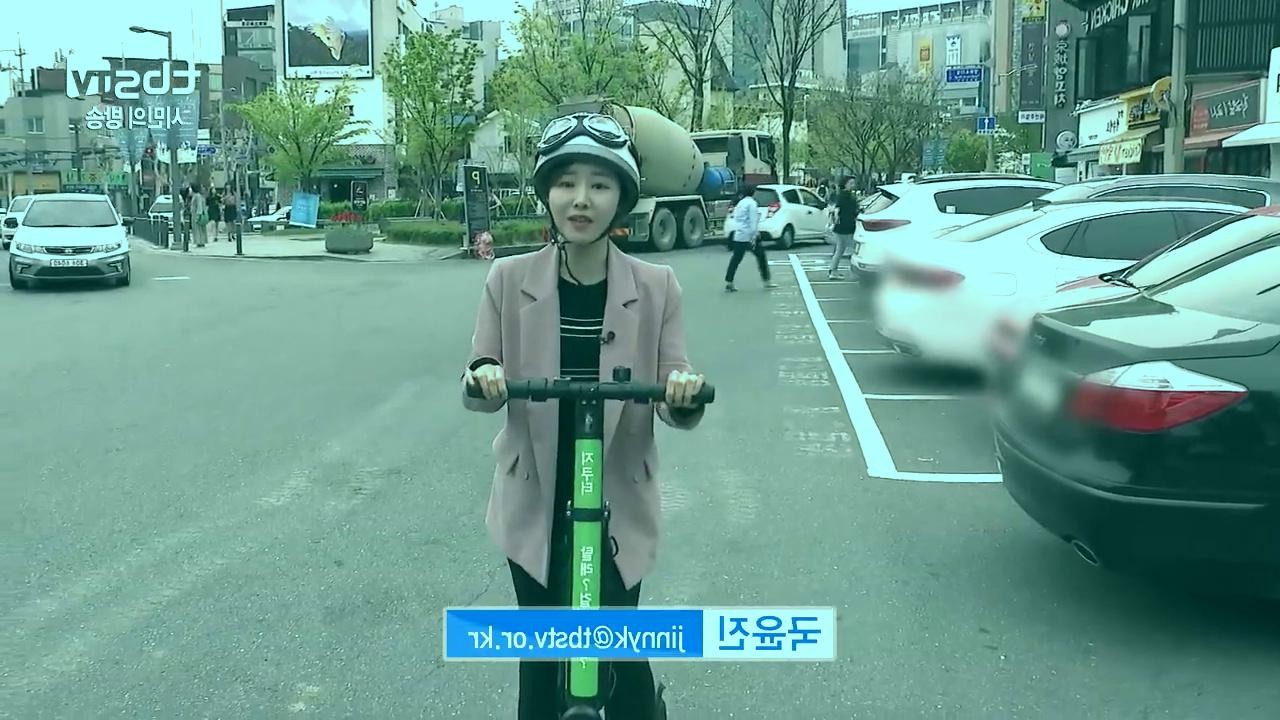helmet: (454, 111, 721, 720)
